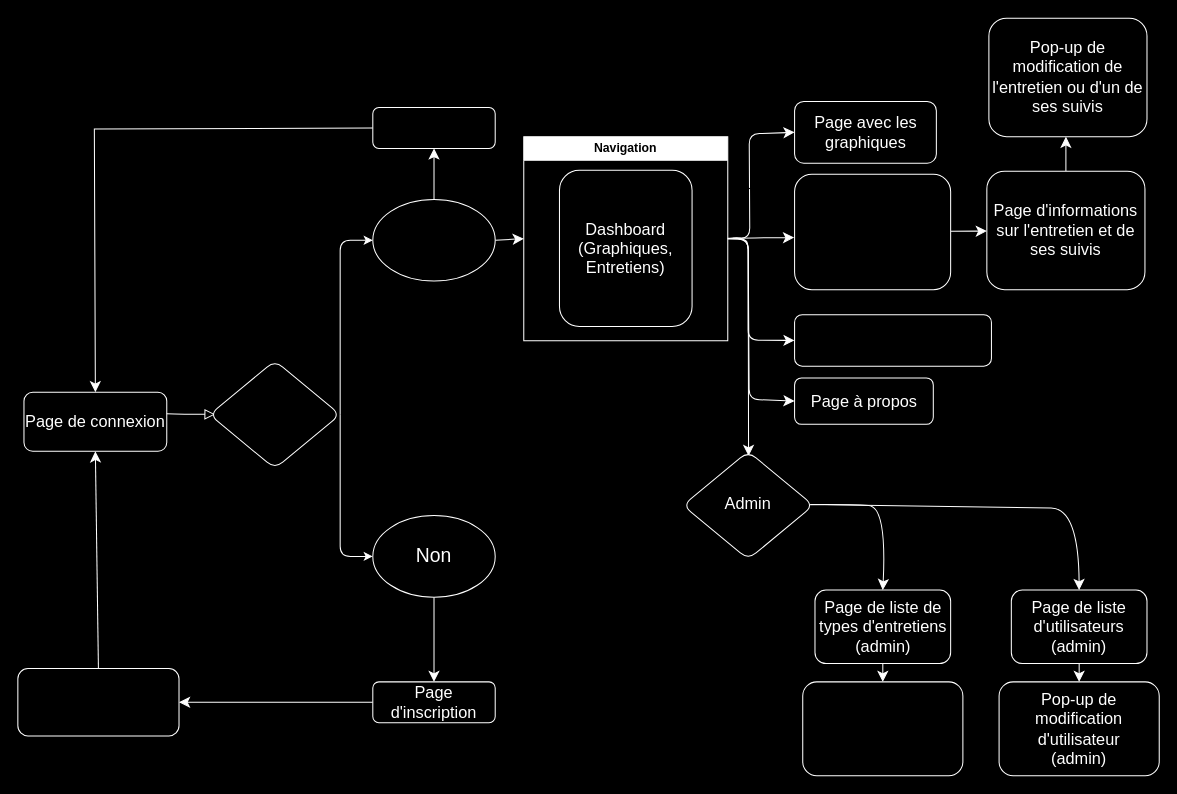
Image size: 1177x794. Some labels were removed from this diagram. The centre of each missing label's shape, as x and y in pixels:
"Authentifié?" belongs at (274,414).
"Déconnexion" belongs at (433,127).
"Oui" belongs at (433,239).
"Page d'informations d'entretiens et des suivis" belongs at (872,231).
"Page de confirmation d'inscription" belongs at (98,702).
"Page de modification du profil d'utilisateur" belongs at (892,340).
"Pop-up pour renommer le nom du type" belongs at (882,728).
